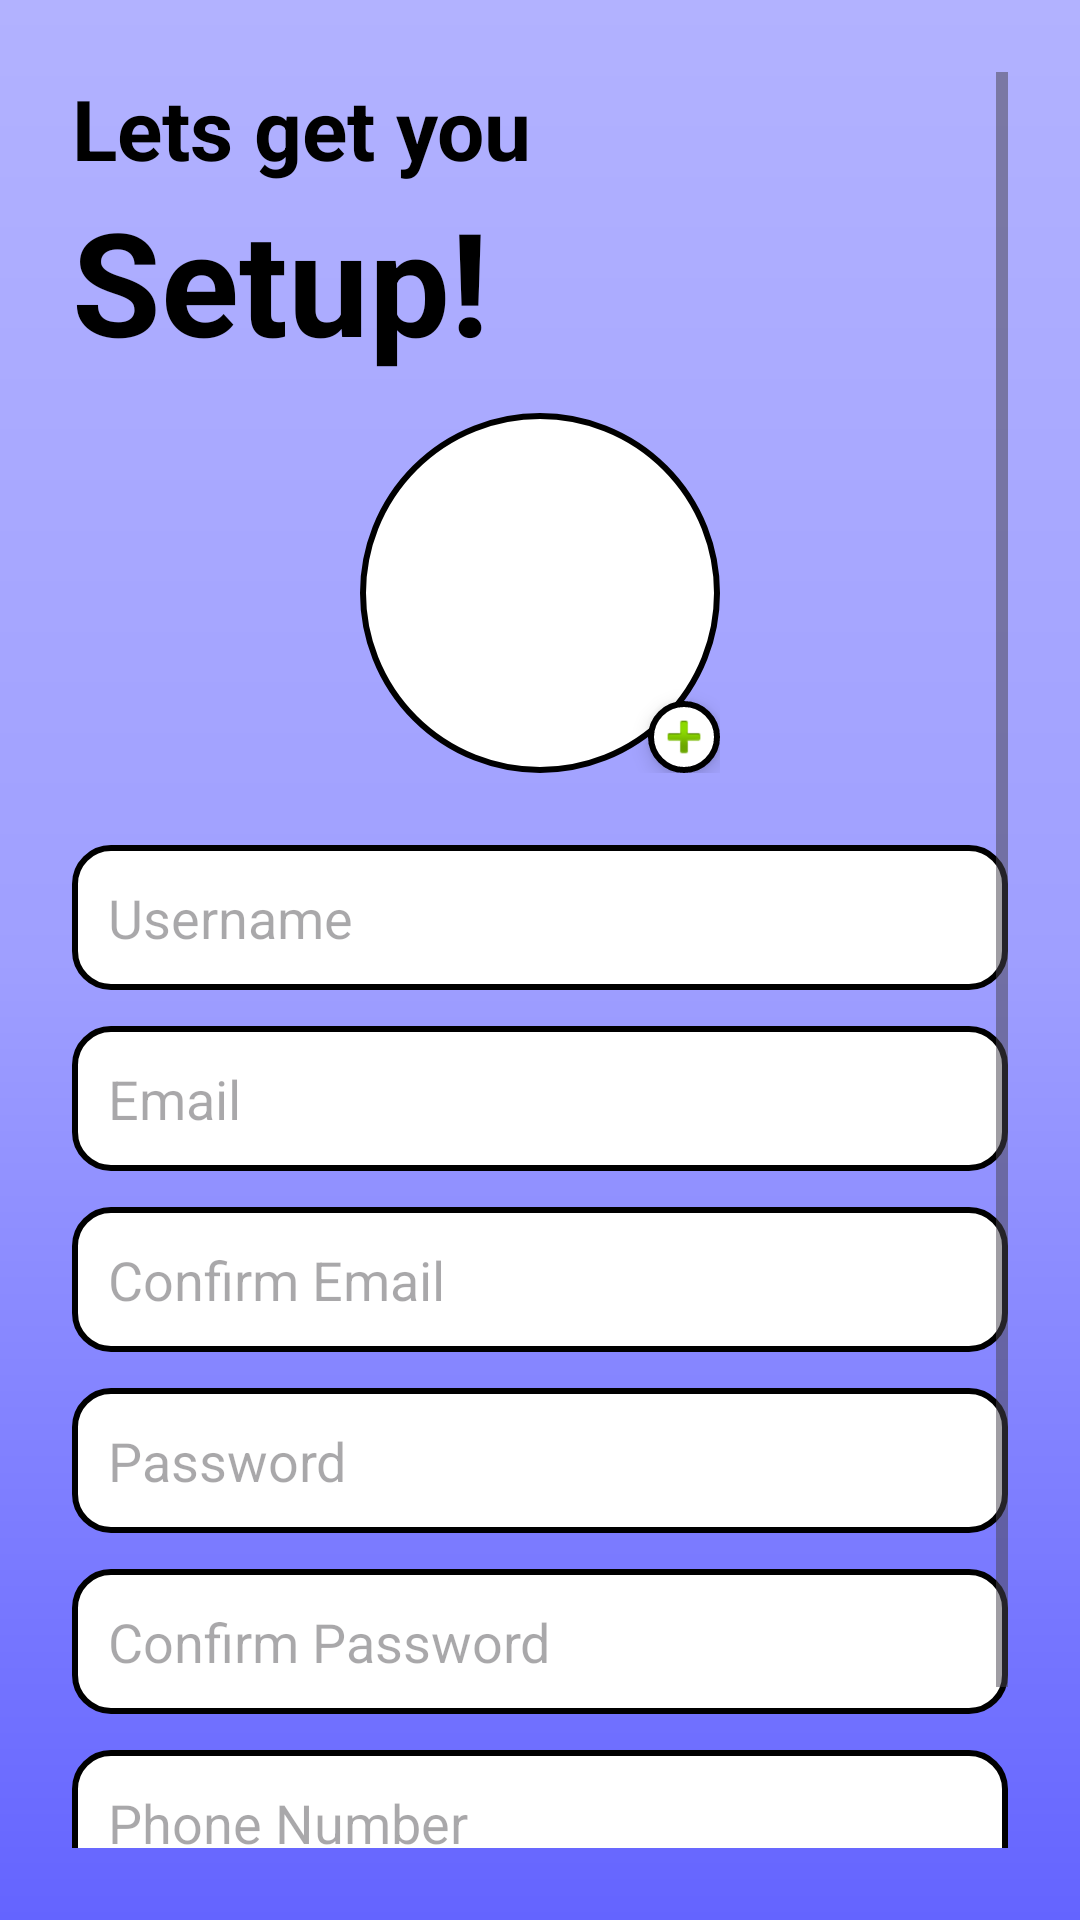

Icons on this 1080px×1920px Android screen, each with its box as [x1,y1,x2,y2]:
add: [648,701,720,773]
